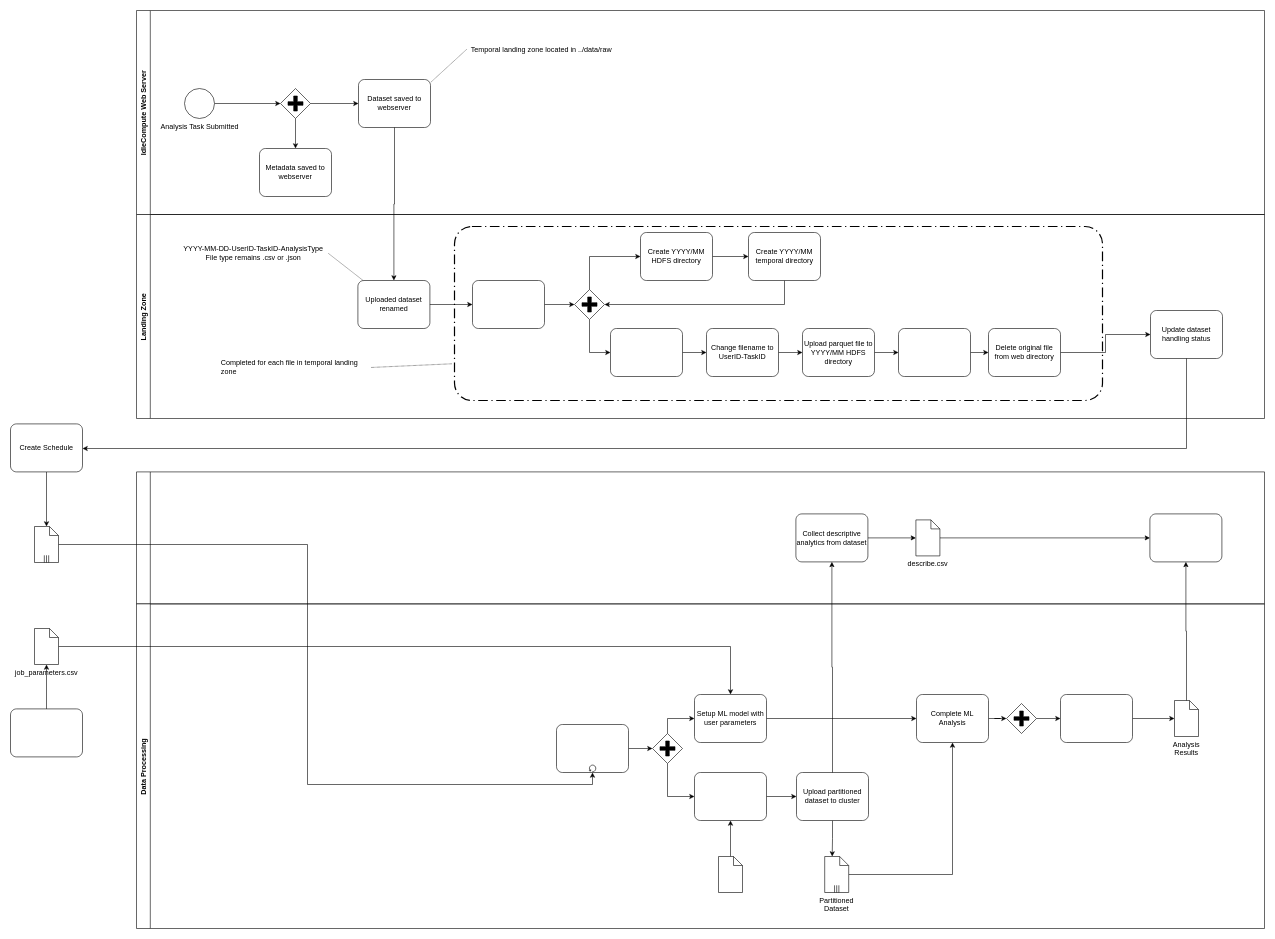
This 1275x939 diagram has some shape labels left out. The shapes that lost their labels are listed below. From the top down, each one's box as (x1, y1, x2, y2) in pixels, then its label:
(472, 280, 544, 328): Strip YYYY-MM from file name
(610, 328, 682, 376): Convert file to parquet format
(898, 328, 970, 376): Upload original file to YYYY/MM HDFS directory
(34, 526, 58, 562): schedule.csv
(136, 471, 1264, 604): KPIs
(1149, 513, 1222, 562): Generate Visualizations
(10, 708, 82, 757): Create ML job parameters
(1060, 694, 1132, 742): Store Results
(556, 724, 628, 772): Read Schedule
(694, 772, 766, 820): Partition Dataset Based on IdleHost Avaialbility
(718, 856, 742, 892): Dataset
